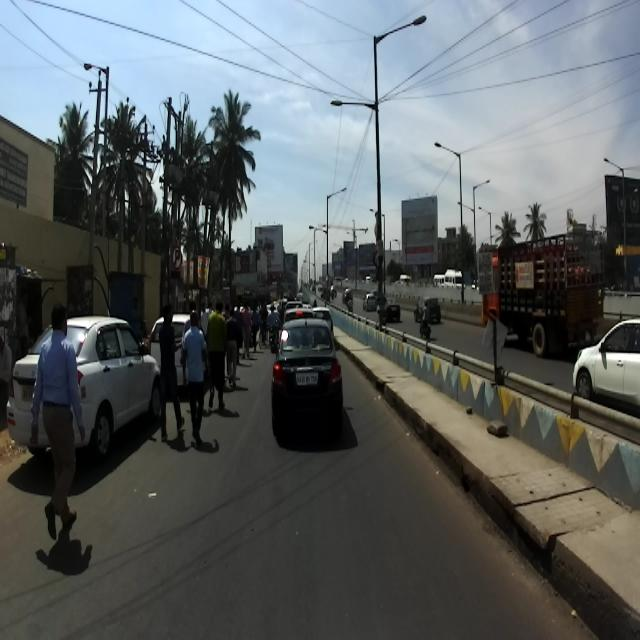car: (6, 316, 162, 462), (270, 316, 342, 438), (572, 317, 640, 415), (146, 313, 208, 396)
